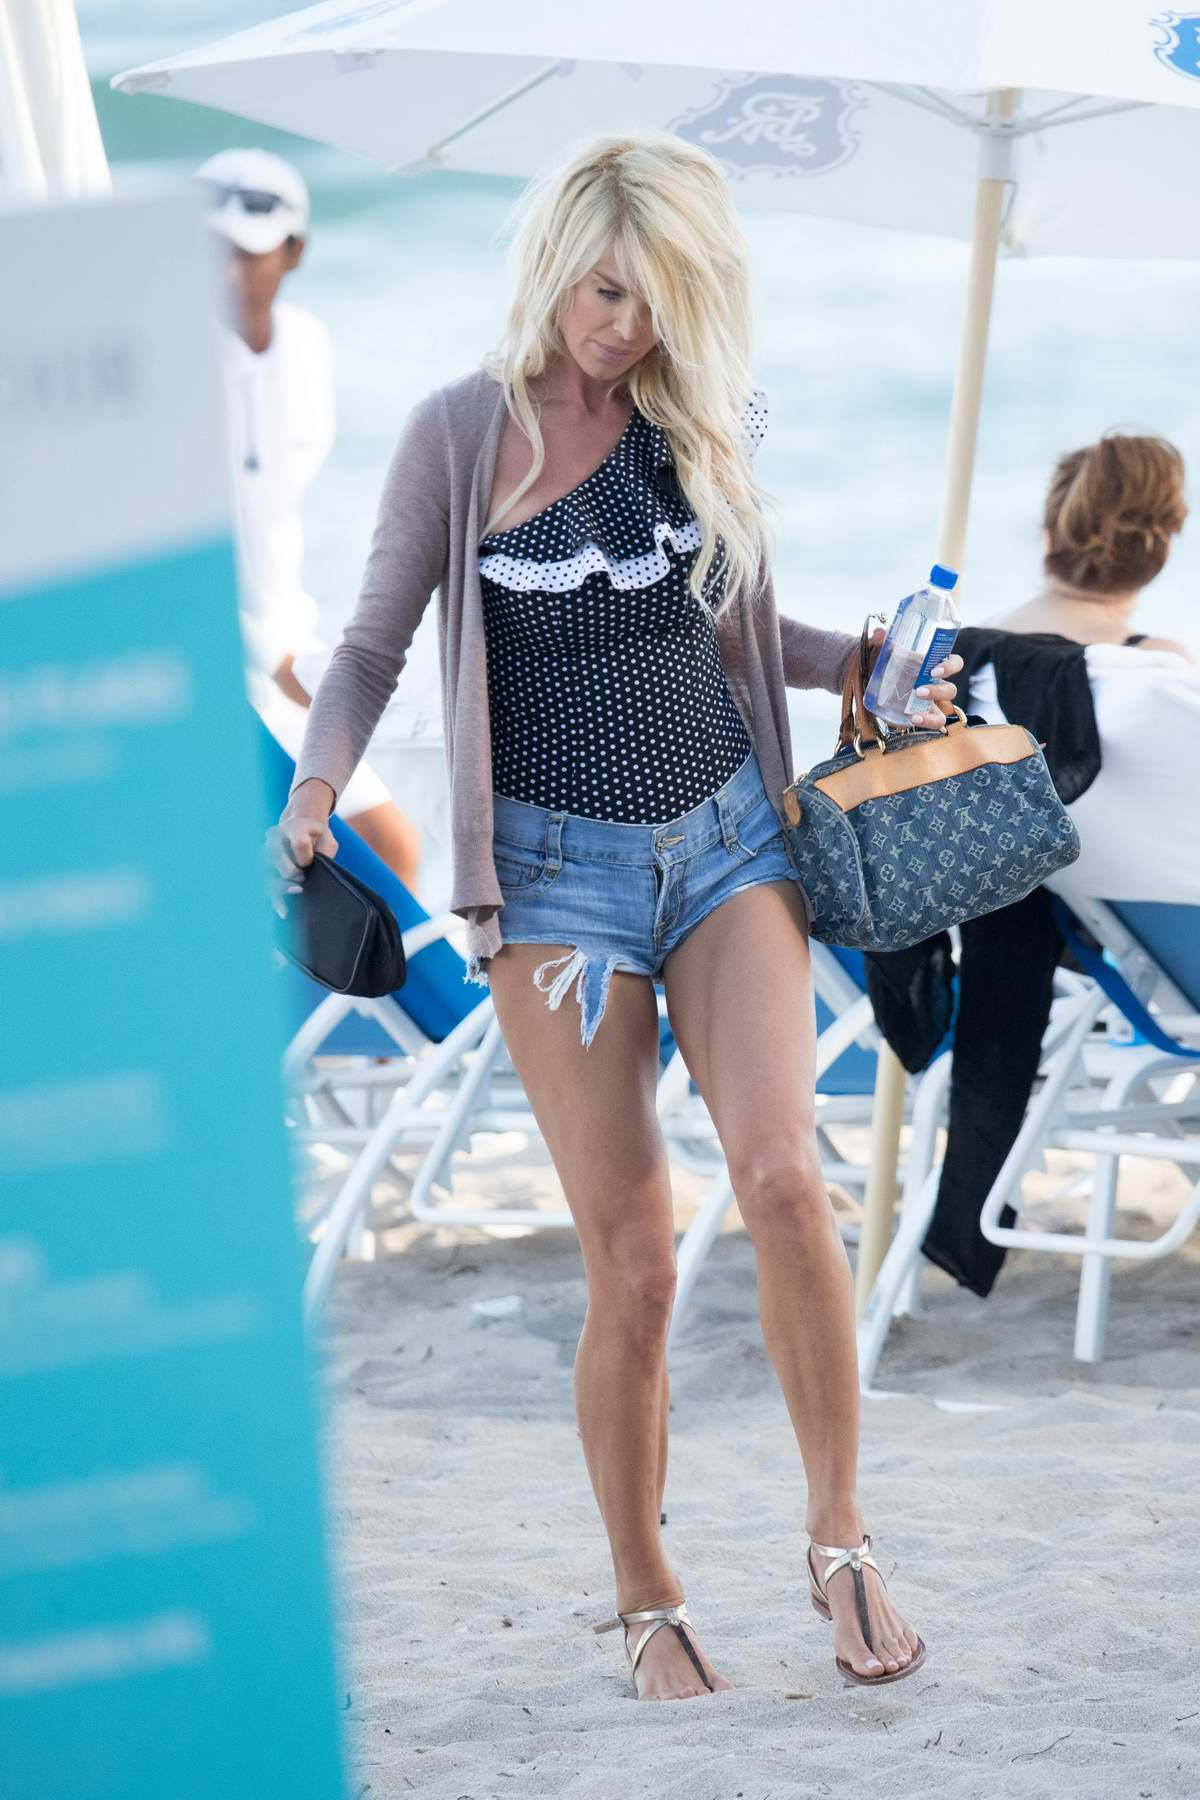Person: (254, 114, 981, 1723), (169, 135, 410, 932), (975, 435, 1200, 677)
